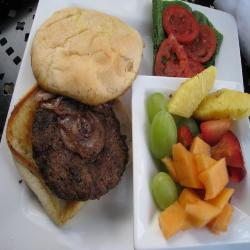burger: (10, 11, 134, 223)
